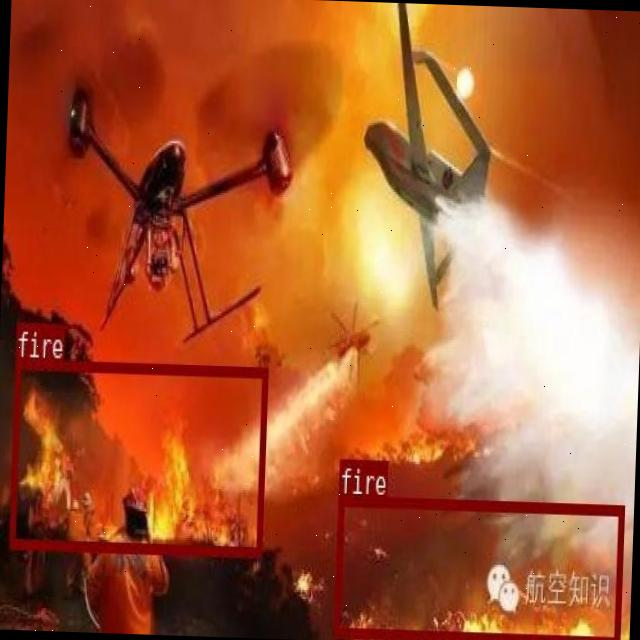fire: (8, 356, 266, 556), (333, 492, 624, 640)
